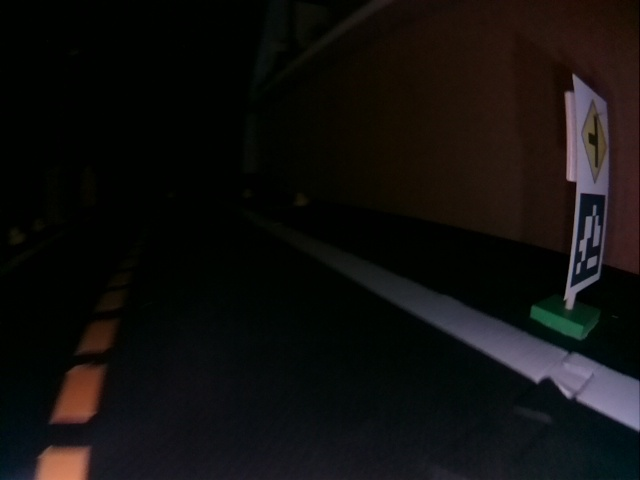Duckie: (295, 192, 308, 207)
Intersection sign: (573, 95, 609, 178)
QR code: (571, 189, 605, 292)
